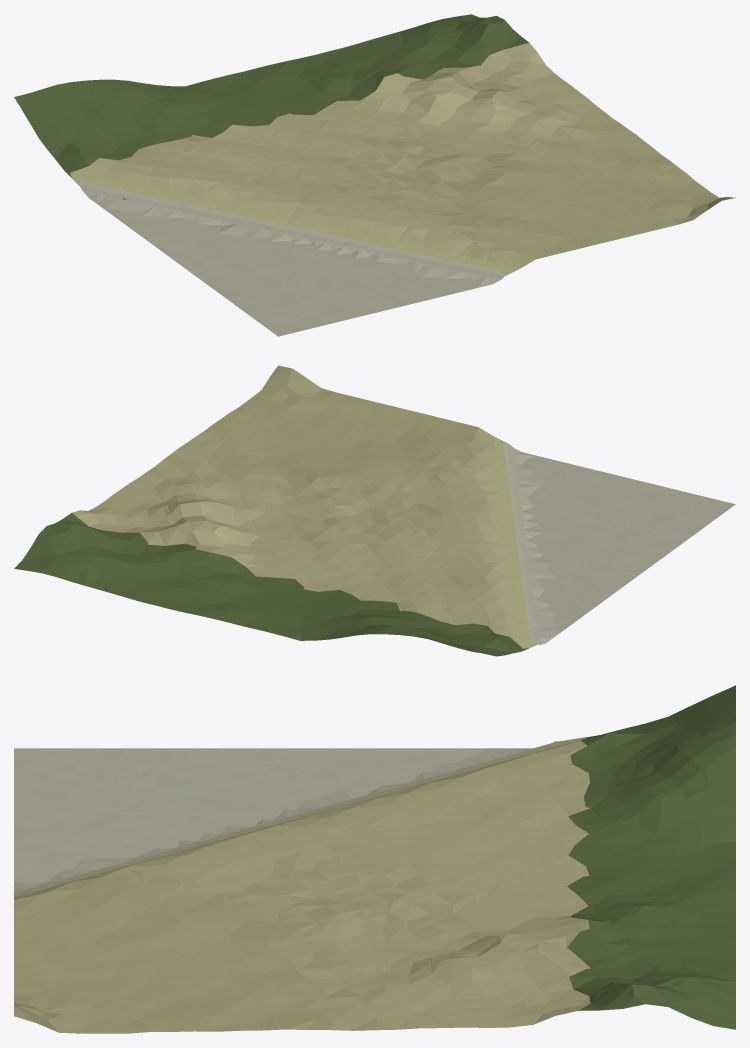
Rendered from Ground_-3_-3.glb.
3 views of the same model, one above another, from view 1: azimuth 30°, elevation 25°; view 2: azimuth 150°, elevation 25°; view 3: azimuth 270°, elevation 25° (orthographic). The views are drawn at different scales.
Visible parts, largest first — view 1: Ground_-3_-3; view 2: Ground_-3_-3; view 3: Ground_-3_-3.
Boxes of the visible parts, box(x1,y1,x2,y2) form: Ground_-3_-3: box(14, 14, 735, 336); Ground_-3_-3: box(14, 365, 735, 656); Ground_-3_-3: box(14, 685, 735, 1033).
Bounding box in the file's own units: 768 × 76.89 × 768.
